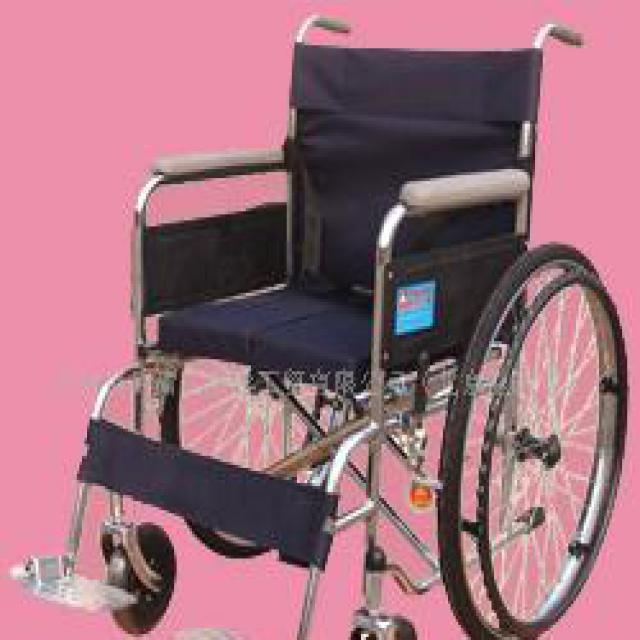wheelchair: (5, 6, 627, 637)
